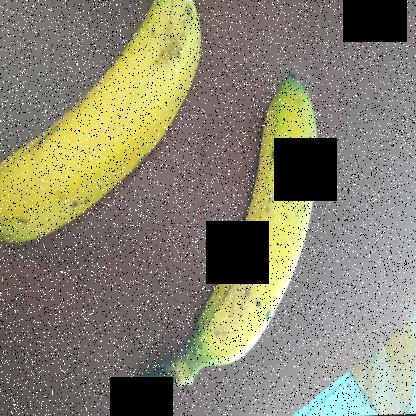freshripe: (0, 1, 223, 254)
ripe: (204, 29, 334, 381)
